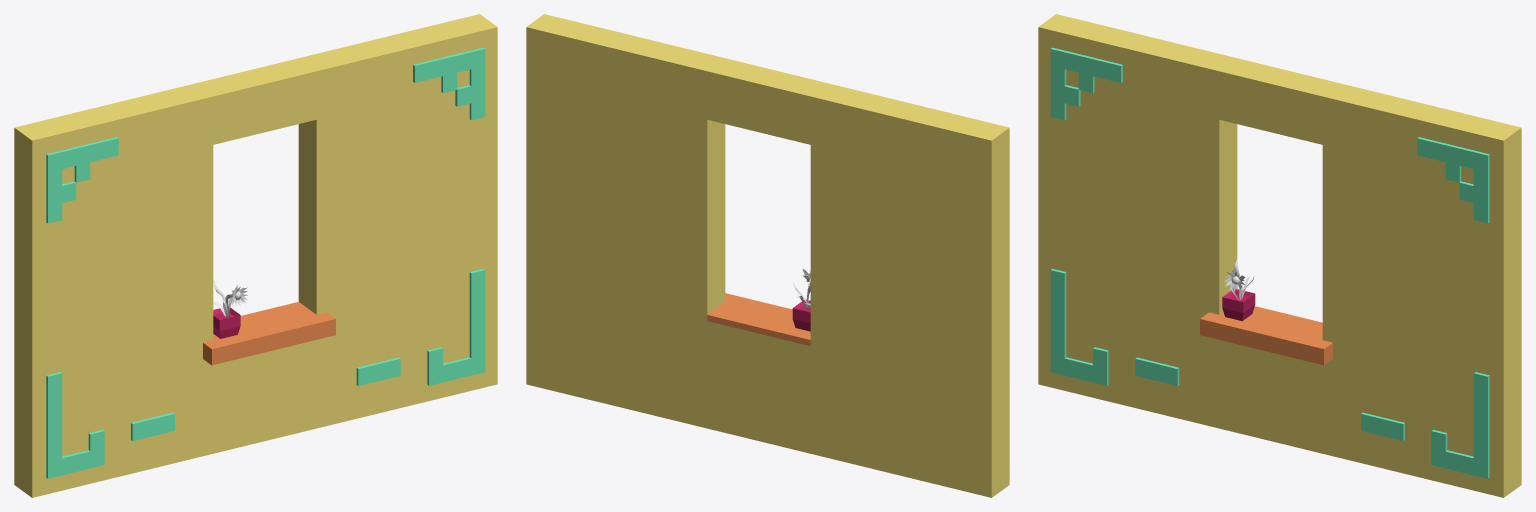
The model's file is wall01_rewark.fbx.
3 renders of one model, left to right at view 1: azimuth 30°, elevation 25°; view 2: azimuth 150°, elevation 25°; view 3: azimuth 330°, elevation 25°, orthographic.
Visible parts, largest first — view 1: Wall_front, Wall_front.001, shell_1.002, pot; view 2: Wall_front, shell_1.002; view 3: Wall_front, Wall_front.001, shell_1.002, pot.
Part boxes in pixels (box(x1,y1,x2,y2)): Wall_front: box(14, 14, 497, 497); Wall_front.001: box(46, 47, 485, 478); shell_1.002: box(203, 302, 335, 365); pot: box(213, 306, 240, 338); Wall_front: box(526, 14, 1009, 497); shell_1.002: box(707, 293, 810, 346); Wall_front: box(1038, 14, 1521, 497); Wall_front.001: box(1050, 47, 1489, 478); shell_1.002: box(1200, 306, 1332, 365); pot: box(1222, 289, 1255, 321).
Bounding box in the file's own units: 1500 × 1100 × 150.
